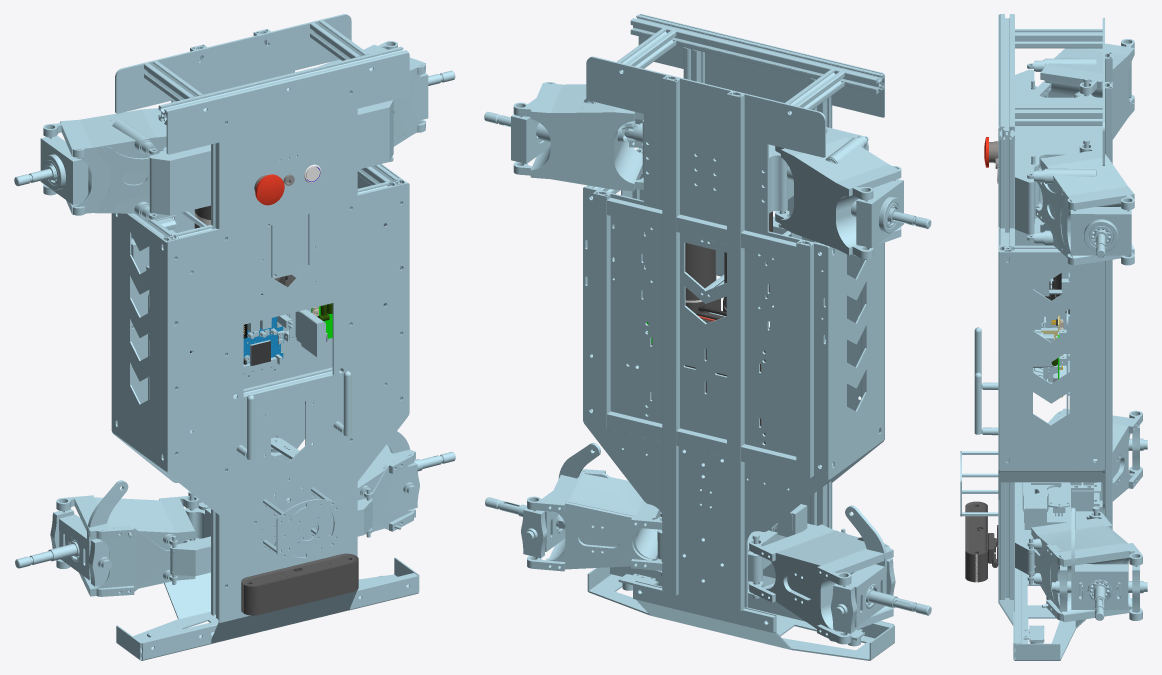
File: ackermann_vehicle_body.glb
3 renders of one model, left to right at view 1: azimuth 30°, elevation 25°; view 2: azimuth 150°, elevation 25°; view 3: azimuth 270°, elevation 25°, orthographic. The views are drawn at different scales.
Visible parts, largest first — view 1: ֧_Ĭɏ_°´¼ӹ¤__1_2_1_1, ةװ-º1_1, STM32Ö÷¿Ø_¼¯³ÉÖ÷¿ØC50B_1_1, ¼±ͣ¿ª¹ן1_2_1_2; view 2: ֧_Ĭɏ_°´¼ӹ¤__1_2_1_1, ةװ-º1_1; view 3: ֧_Ĭɏ_°´¼ӹ¤__1_2_1_1, ةװ-º1_1, ¼±ͣ¿ª¹ן1_2_1_2.
Part boxes in pixels (bbox=[...]): ֧_Ĭɏ_°´¼ӹ¤__1_2_1_1: bbox=[14, 14, 455, 660]; ةװ-º1_1: bbox=[194, 164, 358, 615]; STM32Ö÷¿Ø_¼¯³ÉÖ÷¿ØC50B_1_1: bbox=[243, 293, 318, 365]; ¼±ͣ¿ª¹ן1_2_1_2: bbox=[254, 174, 284, 205]; ֧_Ĭɏ_°´¼ӹ¤__1_2_1_1: bbox=[484, 14, 931, 660]; ةװ-º1_1: bbox=[685, 211, 772, 313]; ֧_Ĭɏ_°´¼ӹ¤__1_2_1_1: bbox=[960, 14, 1147, 660]; ةװ-º1_1: bbox=[965, 165, 1069, 582]; ¼±ͣ¿ª¹ן1_2_1_2: bbox=[984, 137, 998, 167].
Bounding box in the file's own units: 0.6318 × 0.7616 × 0.2458.
